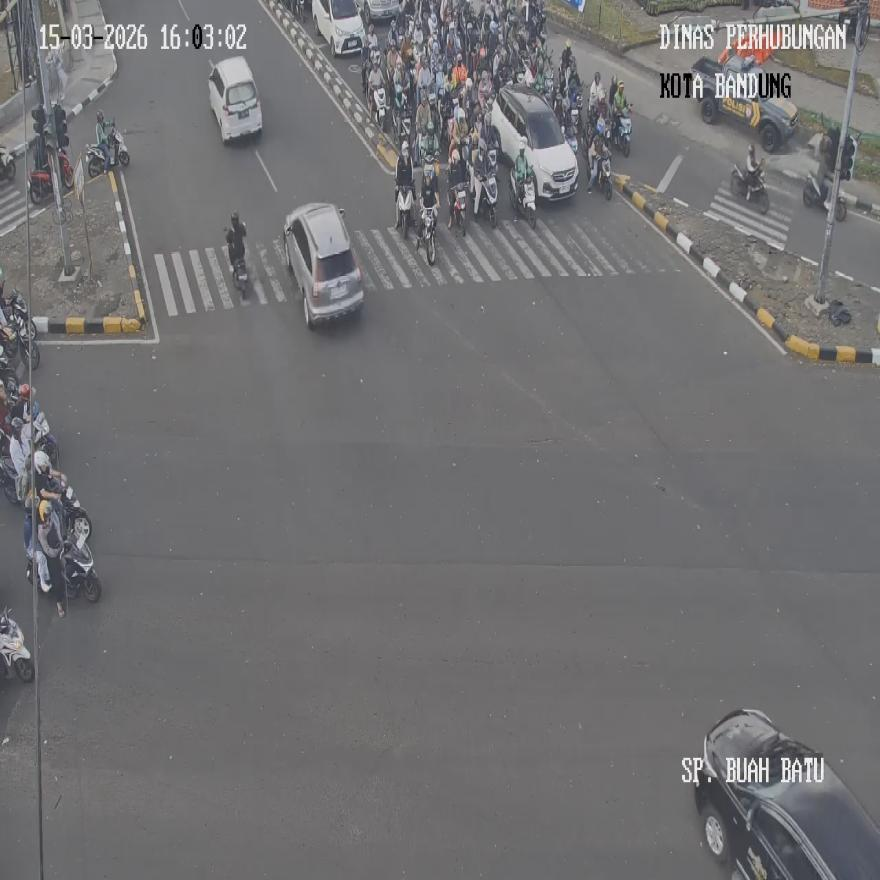Motor: (693, 708, 880, 877), (690, 48, 798, 152), (284, 202, 364, 328), (208, 55, 262, 142)
Truk: (0, 408, 56, 504), (0, 290, 39, 371), (27, 149, 73, 205), (0, 607, 33, 682), (86, 127, 129, 177), (803, 171, 846, 221), (731, 160, 768, 213), (226, 219, 248, 297), (510, 168, 536, 228), (419, 200, 437, 264), (476, 174, 498, 226), (589, 147, 610, 198), (447, 182, 467, 235), (395, 184, 414, 238), (370, 82, 388, 132), (614, 110, 631, 156), (0, 144, 14, 182)
